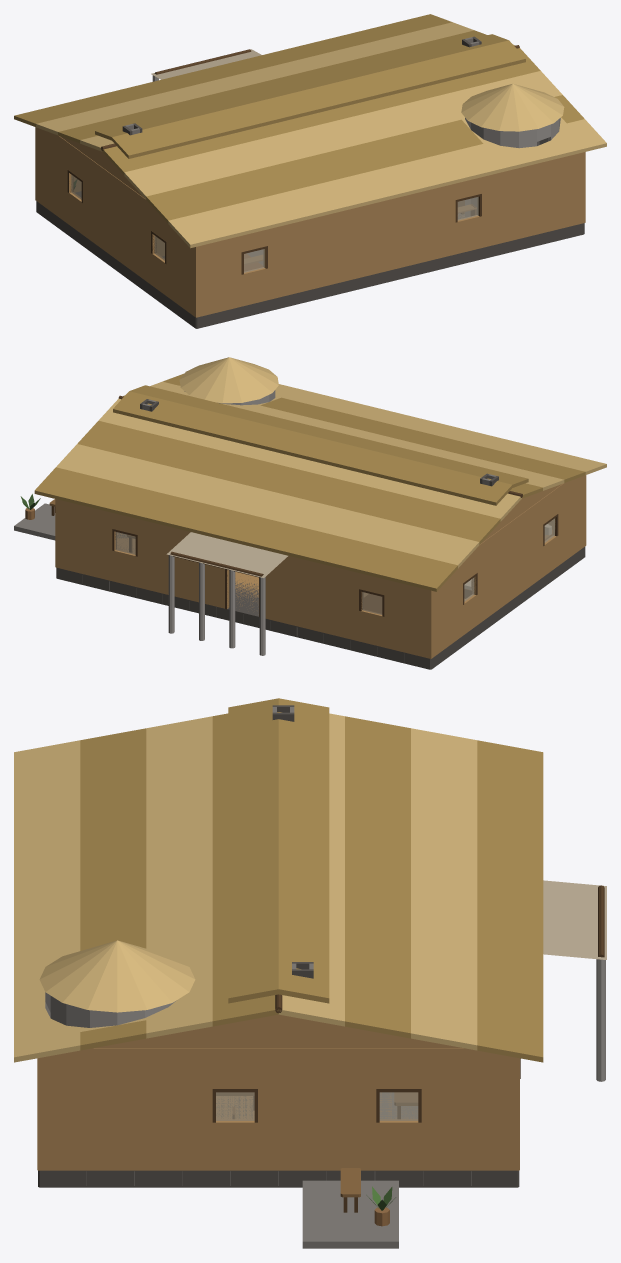
The model's file is SM_CASA_04_MANSION_ALTA.glb.
The picture shows the model from 3 angles, top to bottom: view 1: azimuth 30°, elevation 25°; view 2: azimuth 150°, elevation 25°; view 3: azimuth 270°, elevation 25°; orthographic projection. The views are drawn at different scales.
Parts seen in each view (by area): view 1: SM_Techo_Izq, SM_Pared_Norte, SM_Techo_Der, SM_Techo_Superior, SM_Pared_Oeste, SM_Cimiento, SM_Torre_Techo, SM_Torre, SM_Portico; view 2: SM_Techo_Der, SM_Pared_Sur, SM_Techo_Superior, SM_Pared_Oeste, SM_Techo_Izq, SM_Cimiento, SM_Portico, SM_Torre_Techo, SM_Terraza, SM_Suelo; view 3: SM_Techo_Der, SM_Pared_Este, SM_Techo_Izq, SM_Techo_Superior, SM_Torre_Techo, SM_Cimiento, SM_Terraza, SM_Portico, SM_Torre, SM_Cocina_Completa, SM_Suelo.
Part boxes in pixels (x1,y1,x2,y2): SM_Techo_Izq: [102, 48, 606, 248]; SM_Pared_Norte: [196, 152, 585, 317]; SM_Techo_Der: [14, 14, 515, 151]; SM_Techo_Superior: [95, 34, 525, 158]; SM_Pared_Oeste: [35, 127, 196, 317]; SM_Cimiento: [36, 191, 584, 328]; SM_Torre_Techo: [461, 83, 564, 131]; SM_Torre: [465, 118, 560, 217]; SM_Portico: [151, 49, 261, 81]; SM_Techo_Der: [34, 398, 521, 591]; SM_Pared_Sur: [55, 499, 430, 658]; SM_Techo_Superior: [113, 385, 528, 505]; SM_Pared_Oeste: [431, 475, 586, 658]; SM_Techo_Izq: [123, 373, 606, 498]; SM_Cimiento: [56, 533, 585, 669]; SM_Portico: [166, 532, 287, 655]; SM_Torre_Techo: [179, 357, 278, 403]; SM_Terraza: [14, 494, 55, 540]; SM_Suelo: [117, 532, 464, 613]; SM_Techo_Der: [278, 713, 543, 1062]; SM_Pared_Este: [38, 1014, 519, 1170]; SM_Techo_Izq: [14, 713, 278, 1062]; SM_Techo_Superior: [228, 698, 329, 1003]; SM_Torre_Techo: [39, 940, 195, 1012]; SM_Cimiento: [38, 1096, 519, 1187]; SM_Terraza: [302, 1168, 398, 1248]; SM_Portico: [543, 880, 606, 1081]; SM_Torre: [45, 992, 176, 1027]; SM_Cocina_Completa: [380, 1092, 417, 1118]; SM_Suelo: [216, 1093, 413, 1118].
Size of the model in its own units: 17.5 by 4.9 by 12.32.
